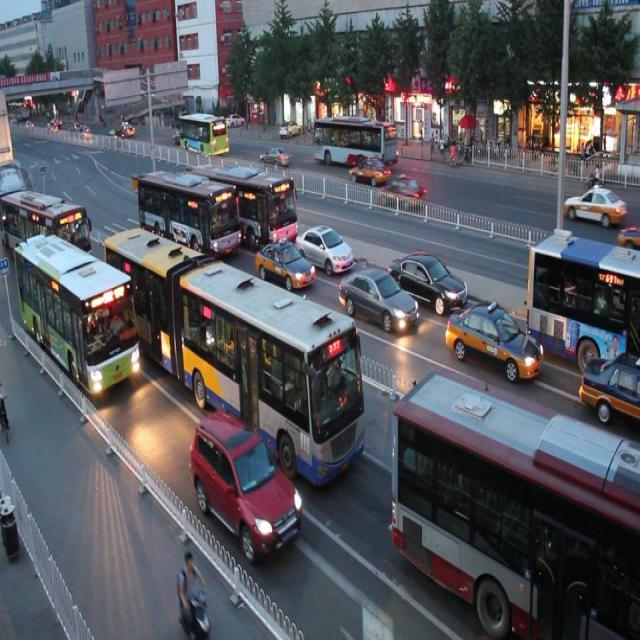car: (190, 411, 301, 558), (446, 294, 544, 382), (337, 258, 416, 331), (390, 243, 468, 309), (576, 350, 640, 420), (253, 230, 314, 289), (294, 214, 352, 273), (67, 255, 114, 309), (240, 172, 272, 204)
van: (102, 218, 366, 482), (391, 372, 640, 640), (15, 234, 140, 394), (524, 230, 640, 370), (136, 160, 240, 262), (191, 153, 298, 248), (1, 182, 90, 272)
